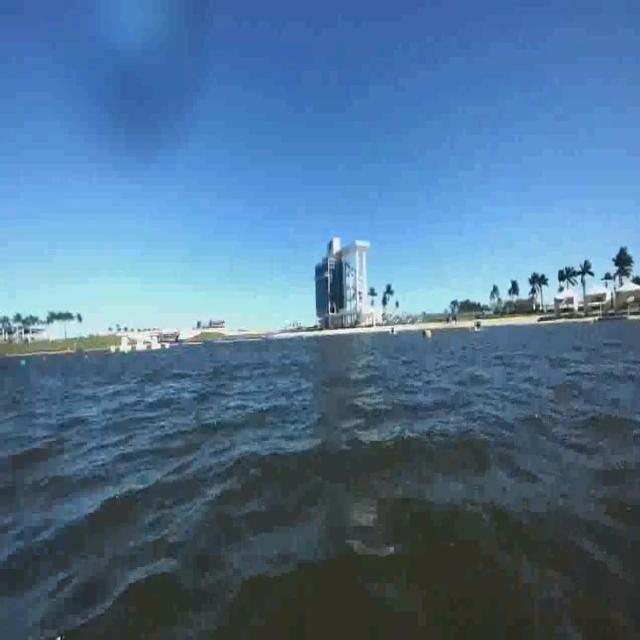yellow-buoy: (426, 328, 433, 340)
